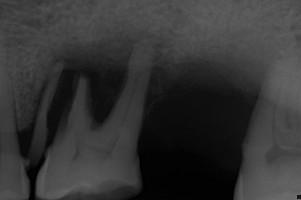Dental Caries: (46, 19, 163, 148)
